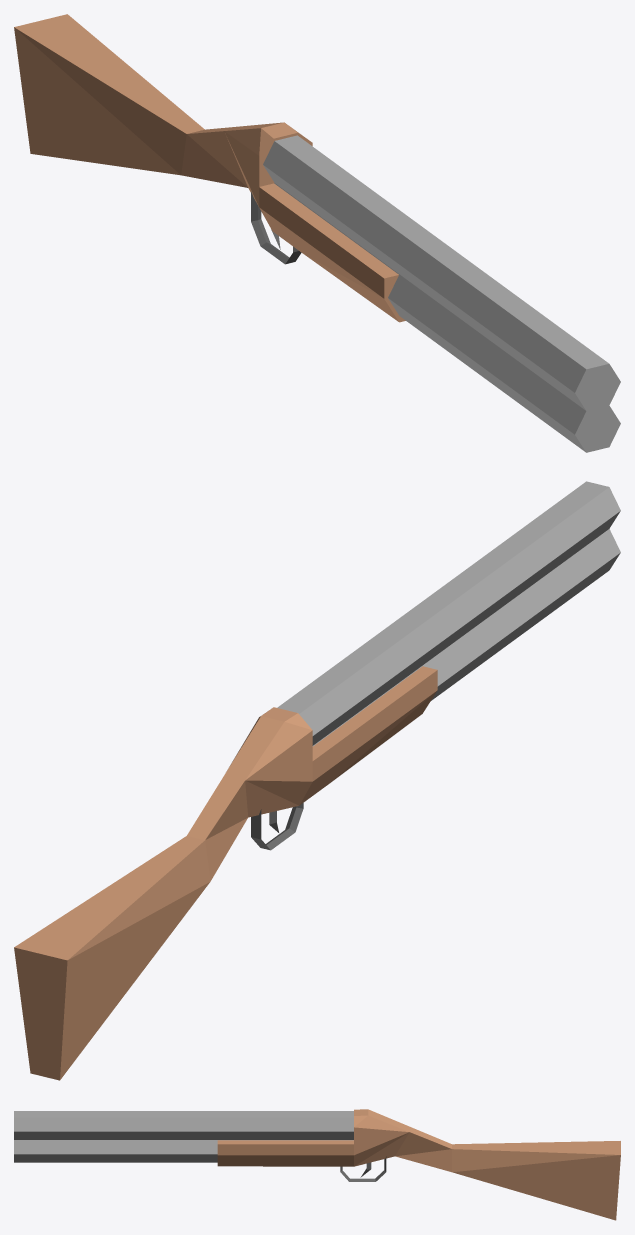
The model's file is GunPump1.glb.
The picture shows the model from 3 angles, top to bottom: view 1: azimuth 30°, elevation 25°; view 2: azimuth 150°, elevation 25°; view 3: azimuth 270°, elevation 25°; orthographic projection. The views are drawn at different scales.
Visible parts, largest first — view 1: LongGun_Barrels, LongGun_Body; view 2: LongGun_Body, LongGun_Barrels; view 3: LongGun_Barrels, LongGun_Body.
Part boxes in pixels (x1=…): LongGun_Barrels: x1=263, y1=135, x2=620, y2=452; LongGun_Body: x1=14, y1=14, x2=312, y2=264; LongGun_Body: x1=14, y1=707, x2=341, y2=1080; LongGun_Barrels: x1=277, y1=481, x2=620, y2=783; LongGun_Barrels: x1=14, y1=1111, x2=353, y2=1166; LongGun_Body: x1=322, y1=1109, x2=620, y2=1220.
Size of the model in its own units: 0.0314 by 0.1073 by 0.5656.
